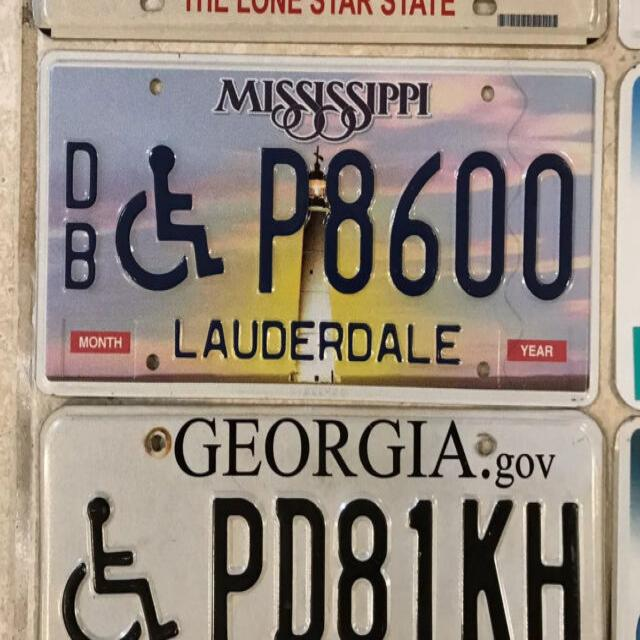symbol_of_access: (48, 481, 186, 640), (114, 138, 225, 295)
